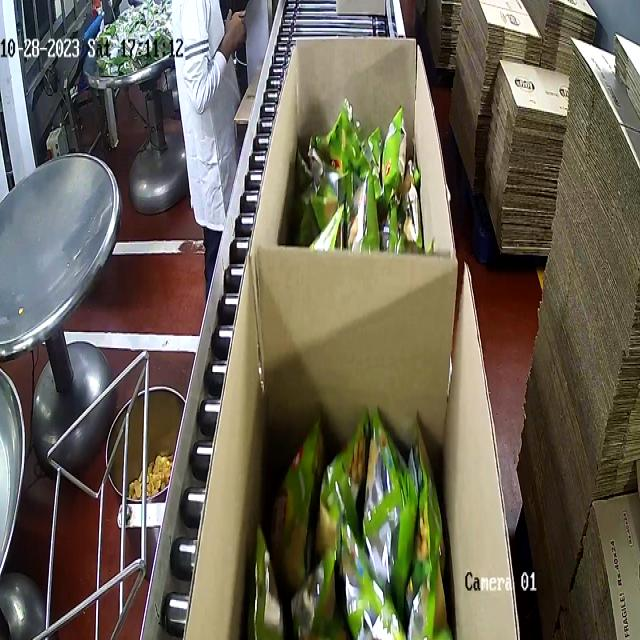YOGURT_HERB: (254, 405, 463, 640), (290, 113, 429, 254)
